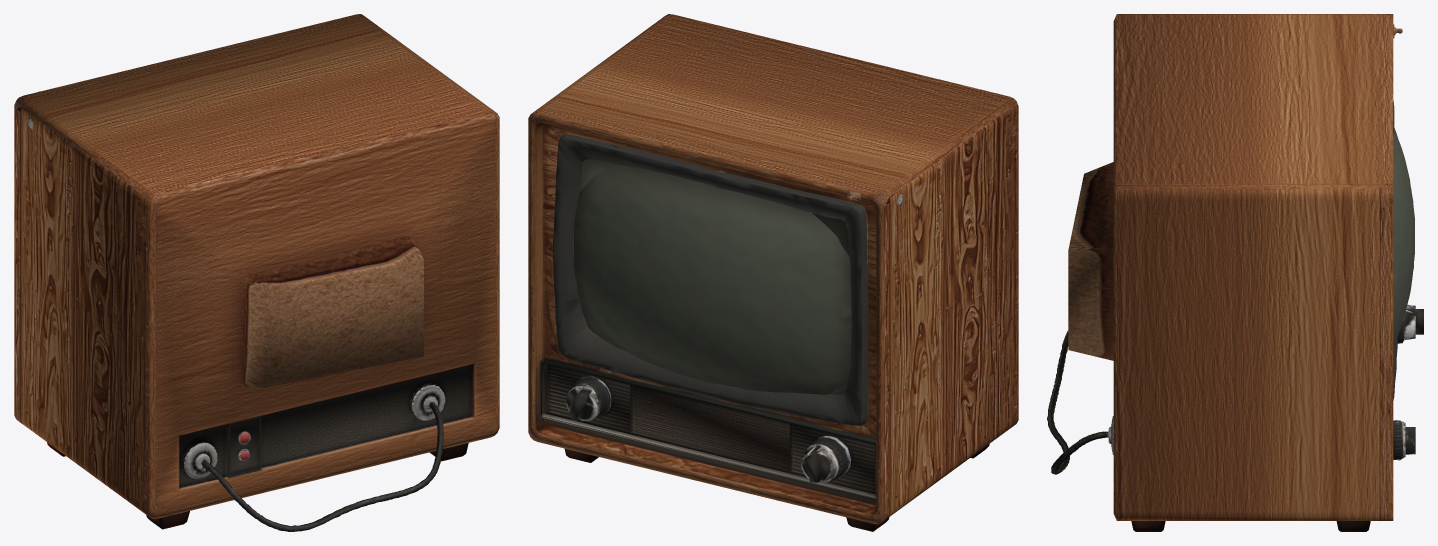
Rendered from prop-crt-tv-v01.glb.
3 views of the same model, side by side, from view 1: azimuth 30°, elevation 25°; view 2: azimuth 150°, elevation 25°; view 3: azimuth 270°, elevation 25° (orthographic). The views are drawn at different scales.
Visible parts, largest first — view 1: tripo_node_0c7a9b8a-e534-48e4-a199-65a655f25609; view 2: tripo_node_0c7a9b8a-e534-48e4-a199-65a655f25609; view 3: tripo_node_0c7a9b8a-e534-48e4-a199-65a655f25609.
Part boxes in pixels (box(x1,y1,x2,y2)): tripo_node_0c7a9b8a-e534-48e4-a199-65a655f25609: box(14, 14, 499, 531); tripo_node_0c7a9b8a-e534-48e4-a199-65a655f25609: box(528, 14, 1018, 531); tripo_node_0c7a9b8a-e534-48e4-a199-65a655f25609: box(1047, 14, 1423, 531).
Size of the model in its own units: 0.5949 by 0.56 by 0.5344.
Materials: 1 (1 with a texture image).
